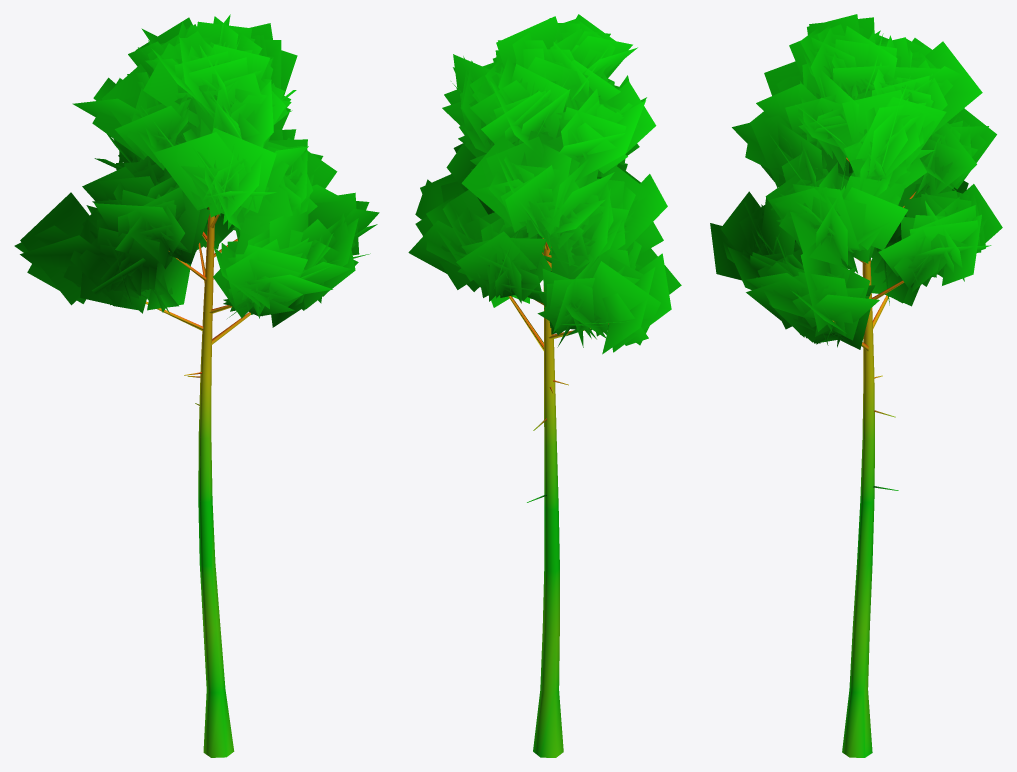
Rendered from tree_pine_b_lod1.glb.
3 renders of one model, left to right at view 1: azimuth 30°, elevation 25°; view 2: azimuth 150°, elevation 25°; view 3: azimuth 270°, elevation 25°, orthographic.
Visible parts, largest first — view 1: tree_pine_b_lod1.1, tree_pine_b_lod1.0; view 2: tree_pine_b_lod1.1, tree_pine_b_lod1.0; view 3: tree_pine_b_lod1.1, tree_pine_b_lod1.0.
Boxes of the visible parts, x1,y1,x2,y2 form: tree_pine_b_lod1.1: (14, 14, 379, 327); tree_pine_b_lod1.0: (145, 207, 250, 757); tree_pine_b_lod1.1: (408, 14, 681, 354); tree_pine_b_lod1.0: (508, 238, 608, 757); tree_pine_b_lod1.1: (710, 14, 1002, 349); tree_pine_b_lod1.0: (832, 157, 916, 757).
Size of the model in its own units: 9.6 by 21.95 by 8.02.
